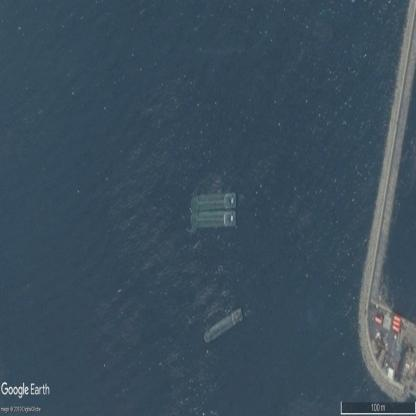ship: (204, 308, 244, 343), (189, 208, 236, 229), (191, 192, 235, 208)
